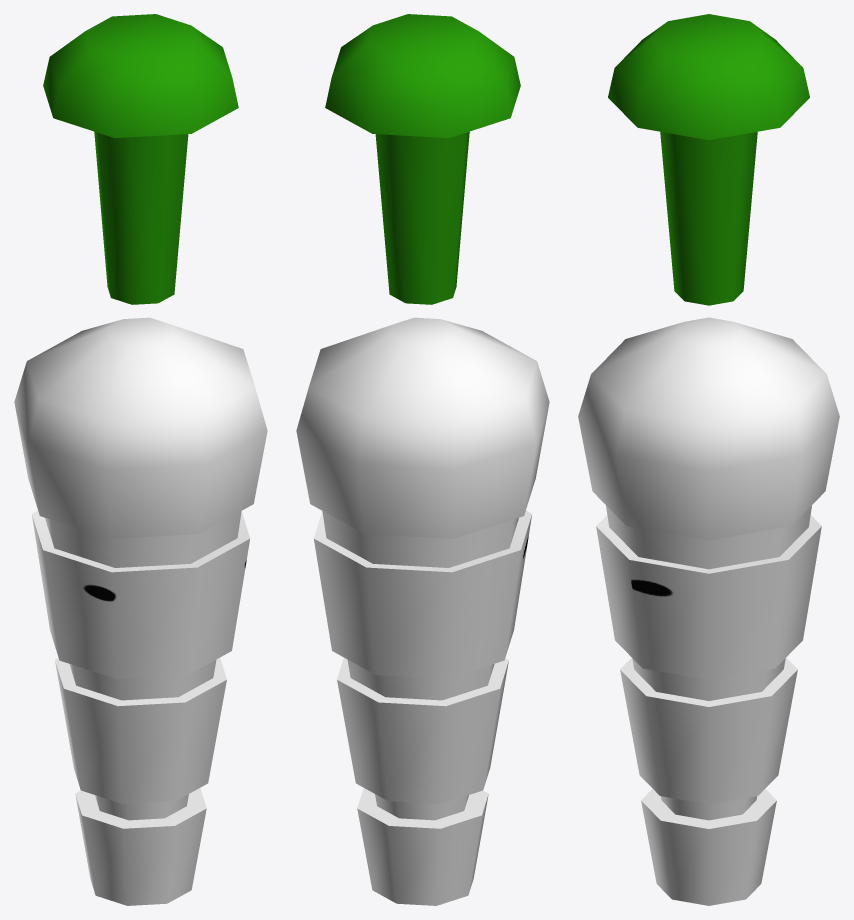
Rendered from pot.obj.
3 renders of one model, left to right at view 1: azimuth 30°, elevation 25°; view 2: azimuth 150°, elevation 25°; view 3: azimuth 270°, elevation 25°, orthographic.
Parts seen in each view (by area): view 1: vegetable; view 2: vegetable; view 3: vegetable.
Part boxes in pixels (bbox=[...]): vegetable: bbox=[14, 14, 267, 905]; vegetable: bbox=[296, 14, 549, 905]; vegetable: bbox=[578, 14, 839, 905].
Bounding box in the file's own units: 0.3559 × 1.27 × 0.3559.
Materials: 1 (1 with a texture image).
